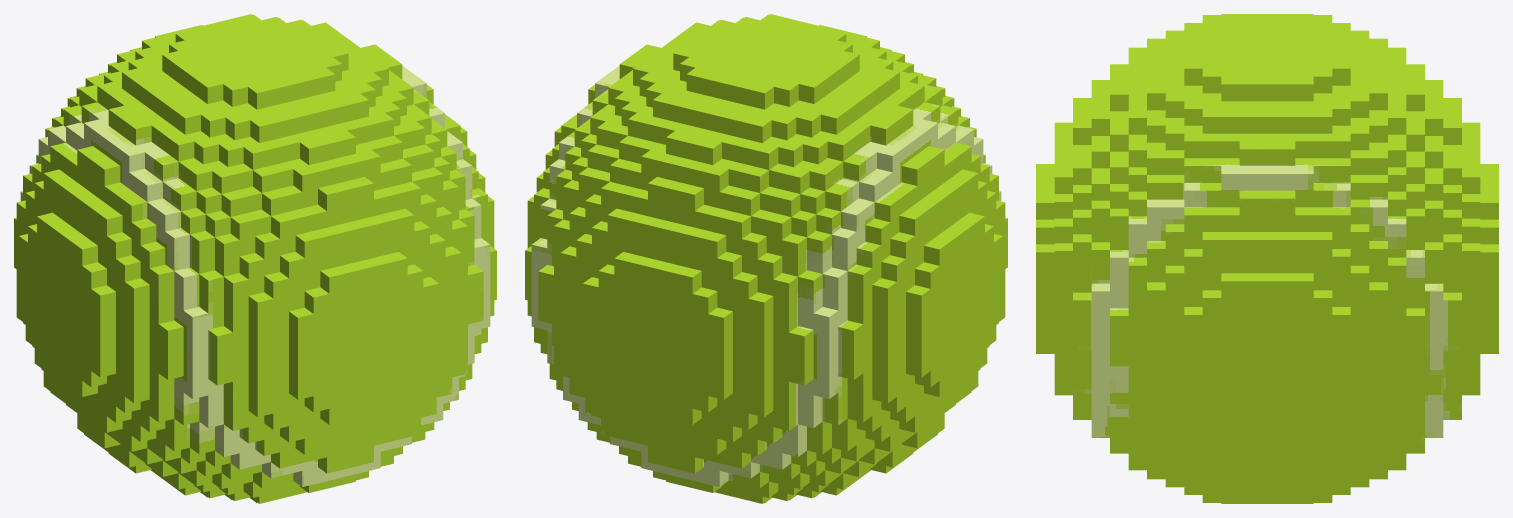
The model's file is tennis.glb.
3 renders of one model, left to right at view 1: azimuth 30°, elevation 25°; view 2: azimuth 150°, elevation 25°; view 3: azimuth 270°, elevation 25°, orthographic. The views are drawn at different scales.
Parts seen in each view (by area): view 1: TennisBall.001; view 2: TennisBall.001; view 3: TennisBall.001.
Part boxes in pixels (x1,y1,x2,y2): TennisBall.001: (14,14,496,503); TennisBall.001: (525,14,1007,503); TennisBall.001: (1036,14,1498,503).
Size of the model in its own units: 2.5 by 2.5 by 2.5.
1 material, 1 textured.
